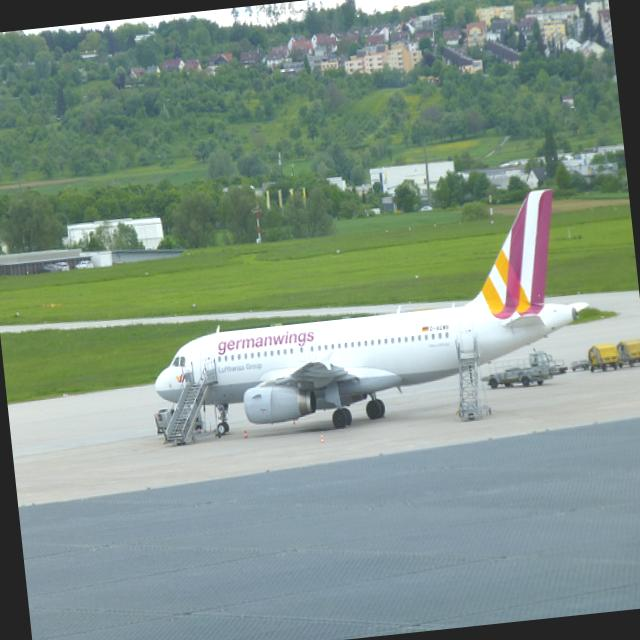Vehicle: (478, 350, 554, 391)
